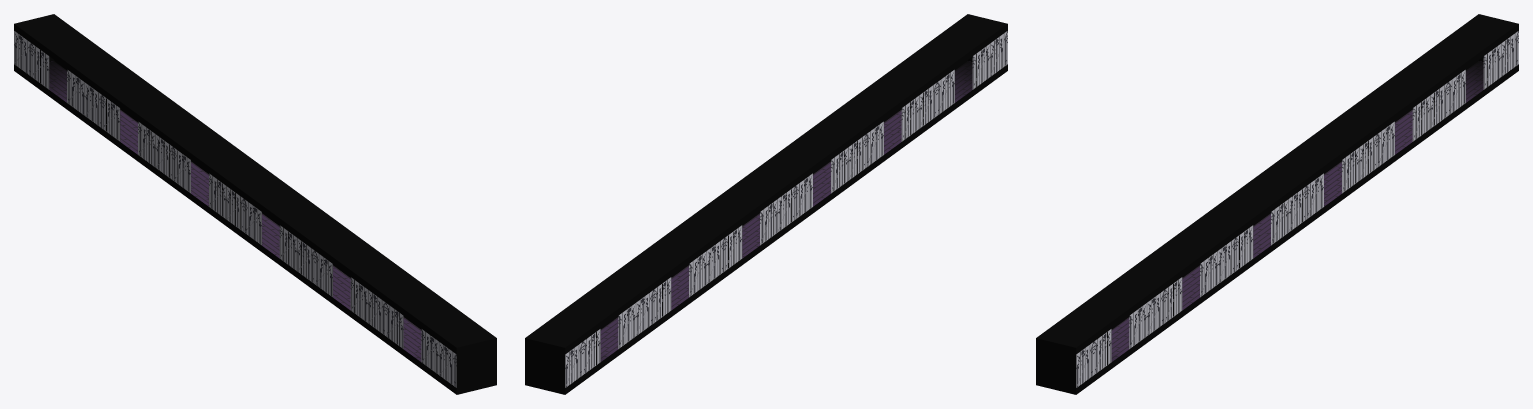
Rendered from stage3WIP.fbx.
3 views of the same model, side by side, from view 1: azimuth 30°, elevation 25°; view 2: azimuth 150°, elevation 25°; view 3: azimuth 330°, elevation 25° (orthographic).
Parts seen in each view (by area): view 1: polySurface25, polySurface24; view 2: polySurface25, polySurface24; view 3: polySurface25, polySurface24.
Part boxes in pixels (x1,y1,x2,y2): polySurface25: [14, 14, 496, 394]; polySurface24: [31, 44, 438, 374]; polySurface25: [525, 14, 1007, 394]; polySurface24: [583, 44, 990, 374]; polySurface25: [1036, 14, 1518, 394]; polySurface24: [1094, 44, 1501, 374].
Size of the model in its own units: 24.77 by 27.76 by 473.
2 materials, 2 textured.
